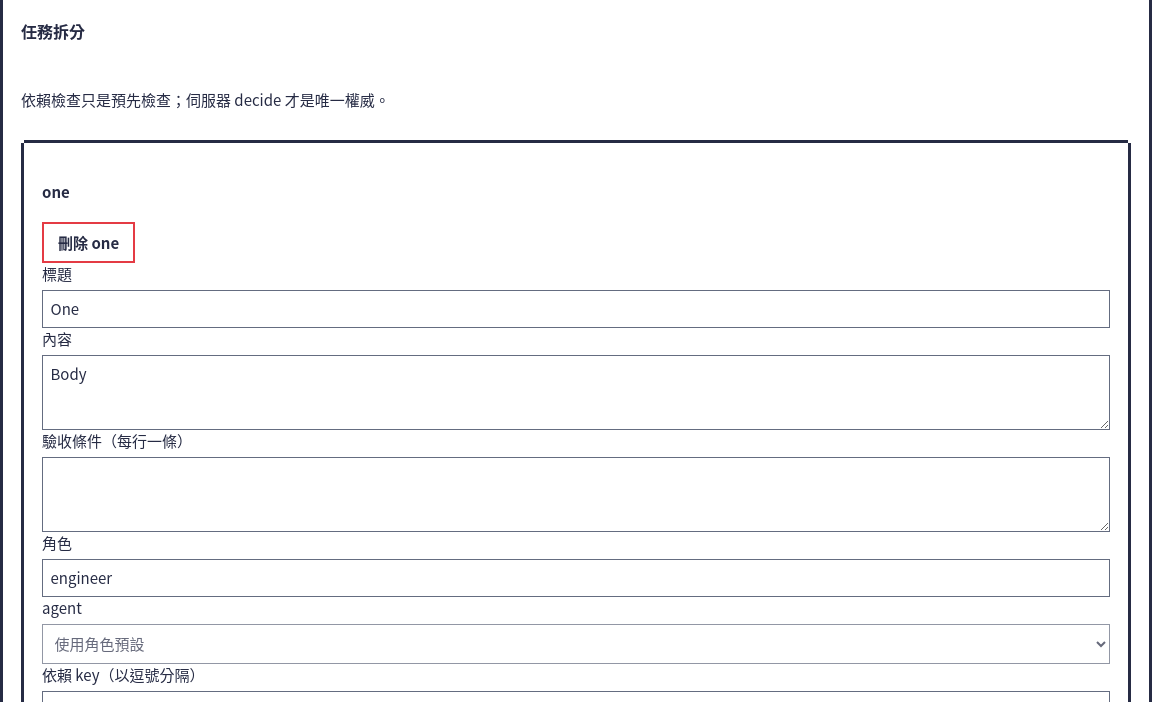
Test case: task edits respect editable and send revised items; reject requires feedback
Later steps or results of the test are not shown.
Expected: the text box with test id "item-one-body" is disabled, [42,355,1110,430]
Replace the text in the field with test id "item-one-title" with "Changed" at (576, 309), box [42,290,1110,328]
(page scrolled)
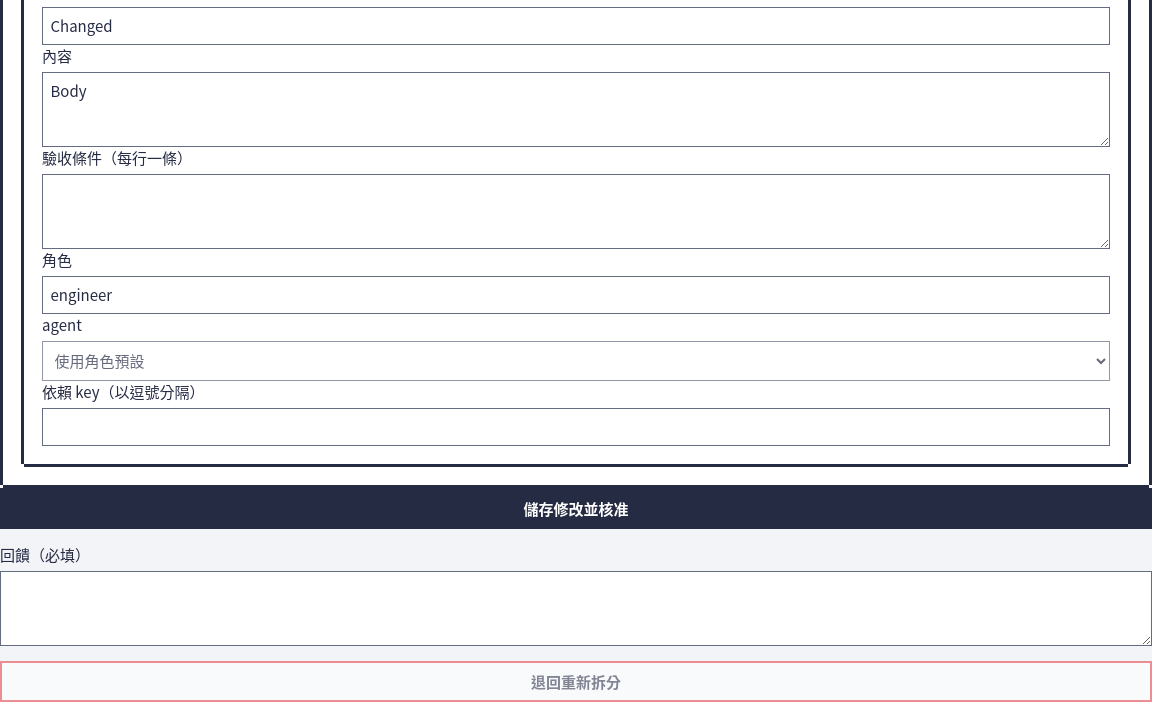
Type "missing" into the field with test id "item-one-deps".
click(576, 427); type("missing")  # box [42,408,1110,446]
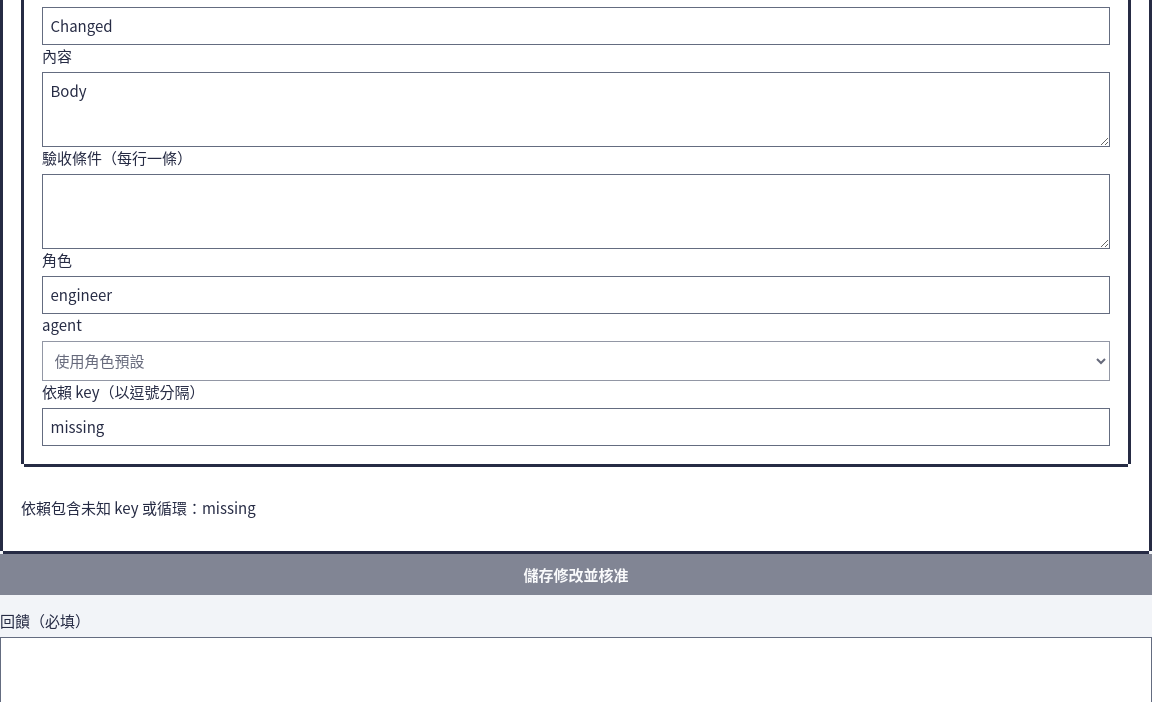
Expected: the button with test id "tasks-approve" is disabled, [0,554,1151,595]
